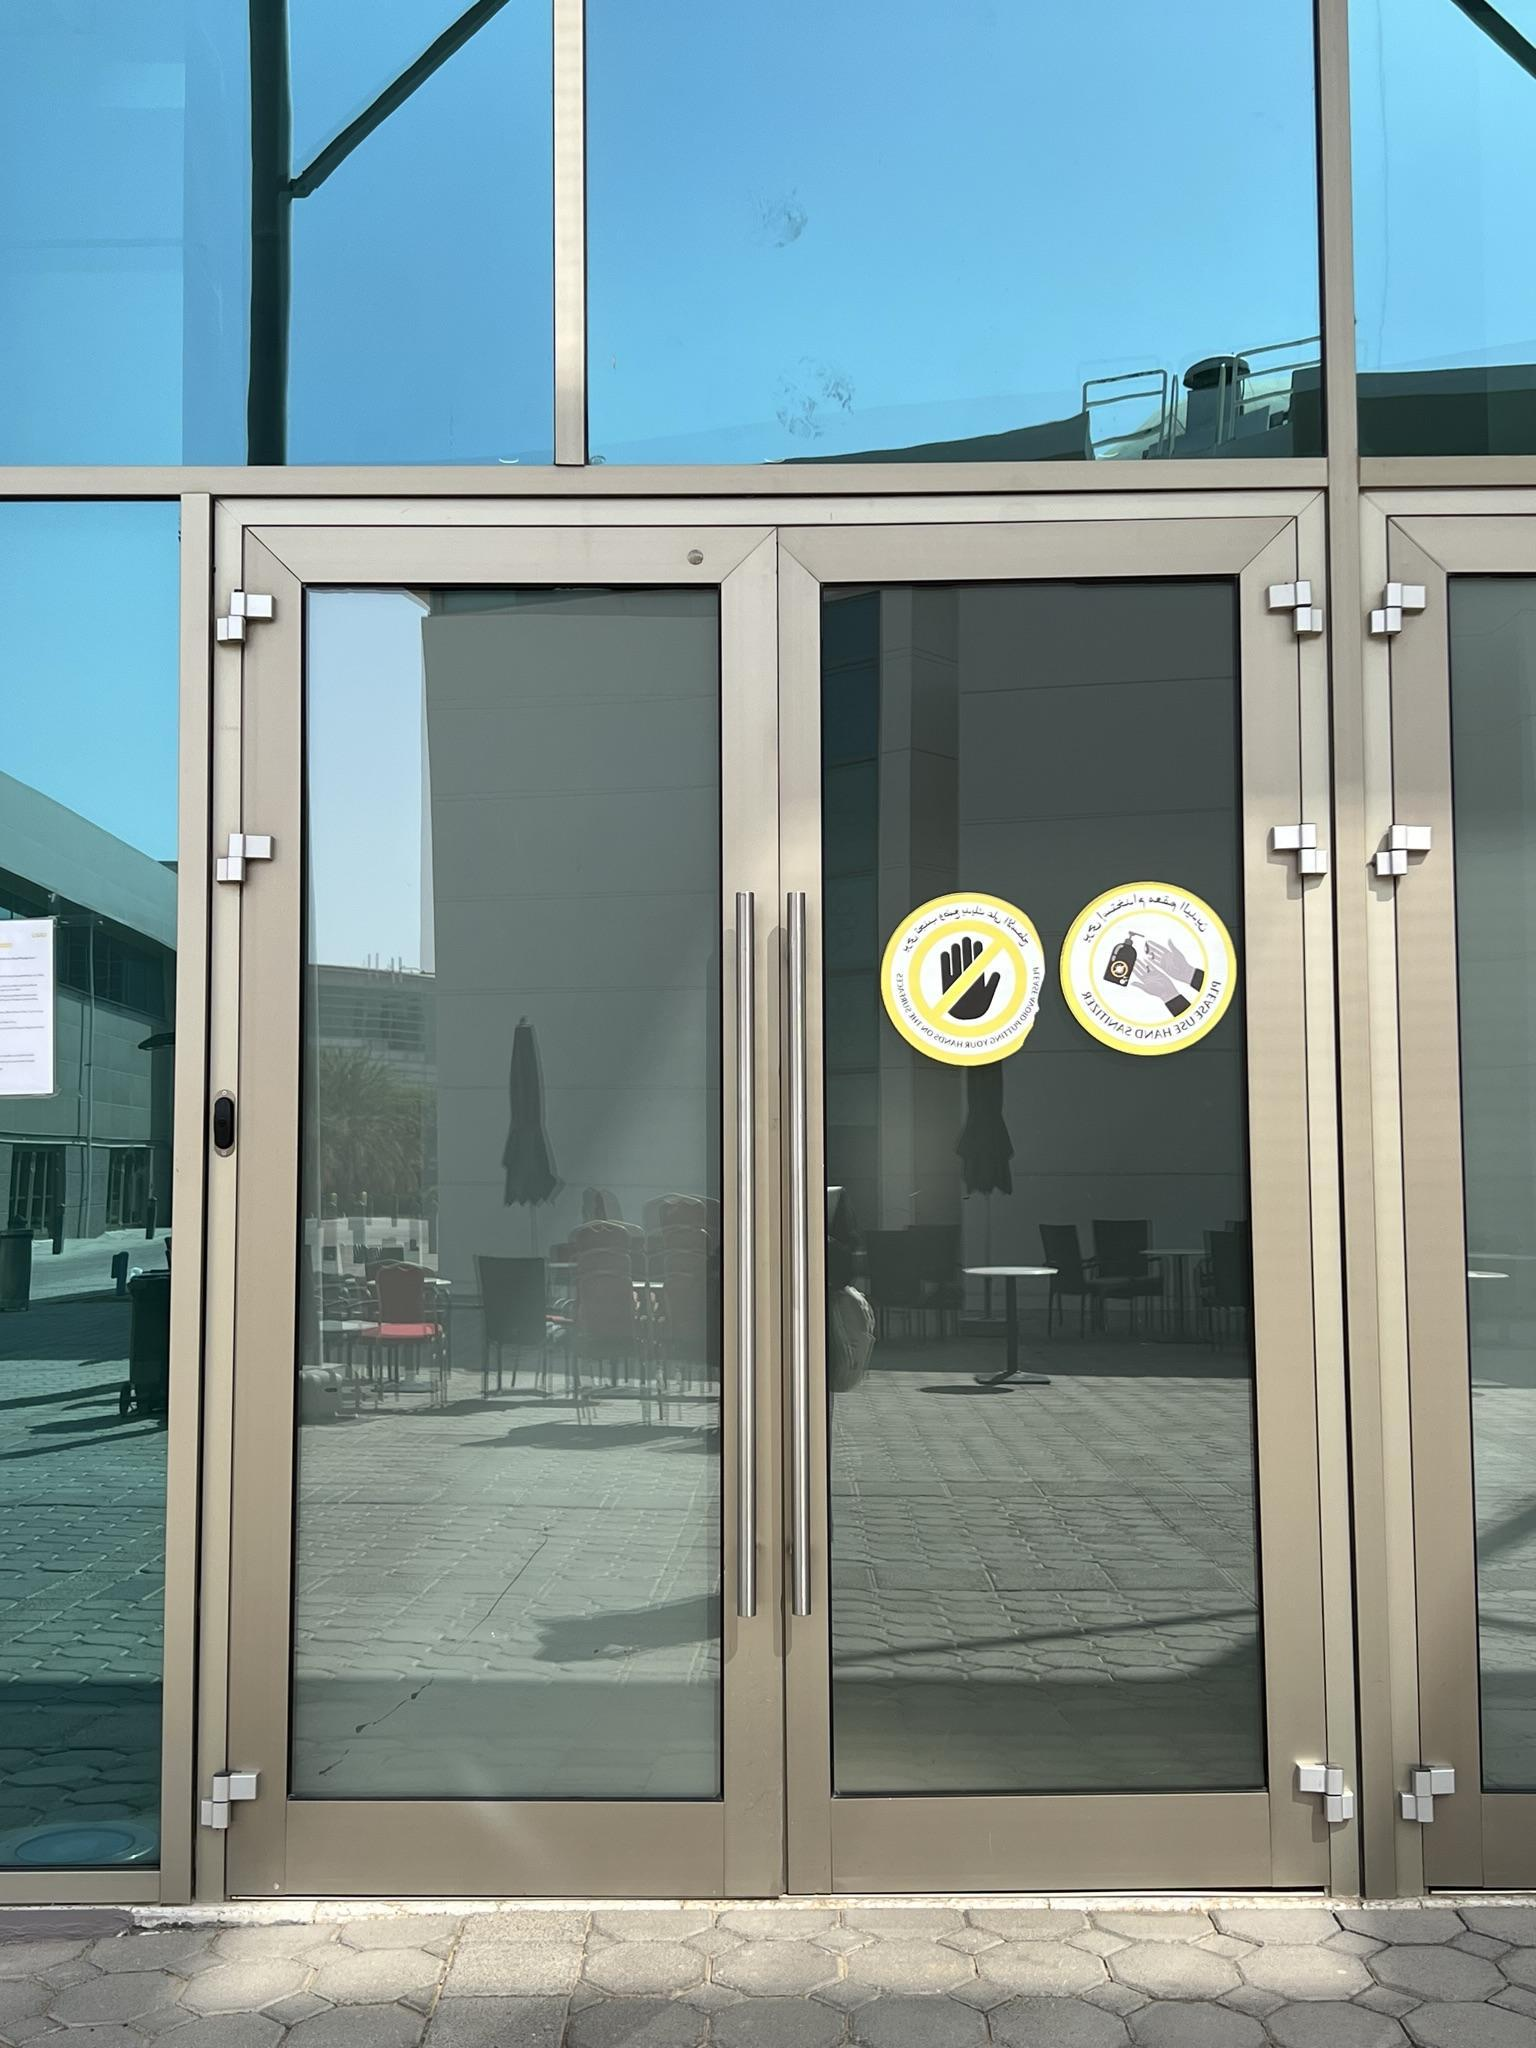door: (227, 531, 749, 1866), (787, 542, 1294, 1879)
handle: (729, 890, 762, 1619), (787, 890, 810, 1619)
